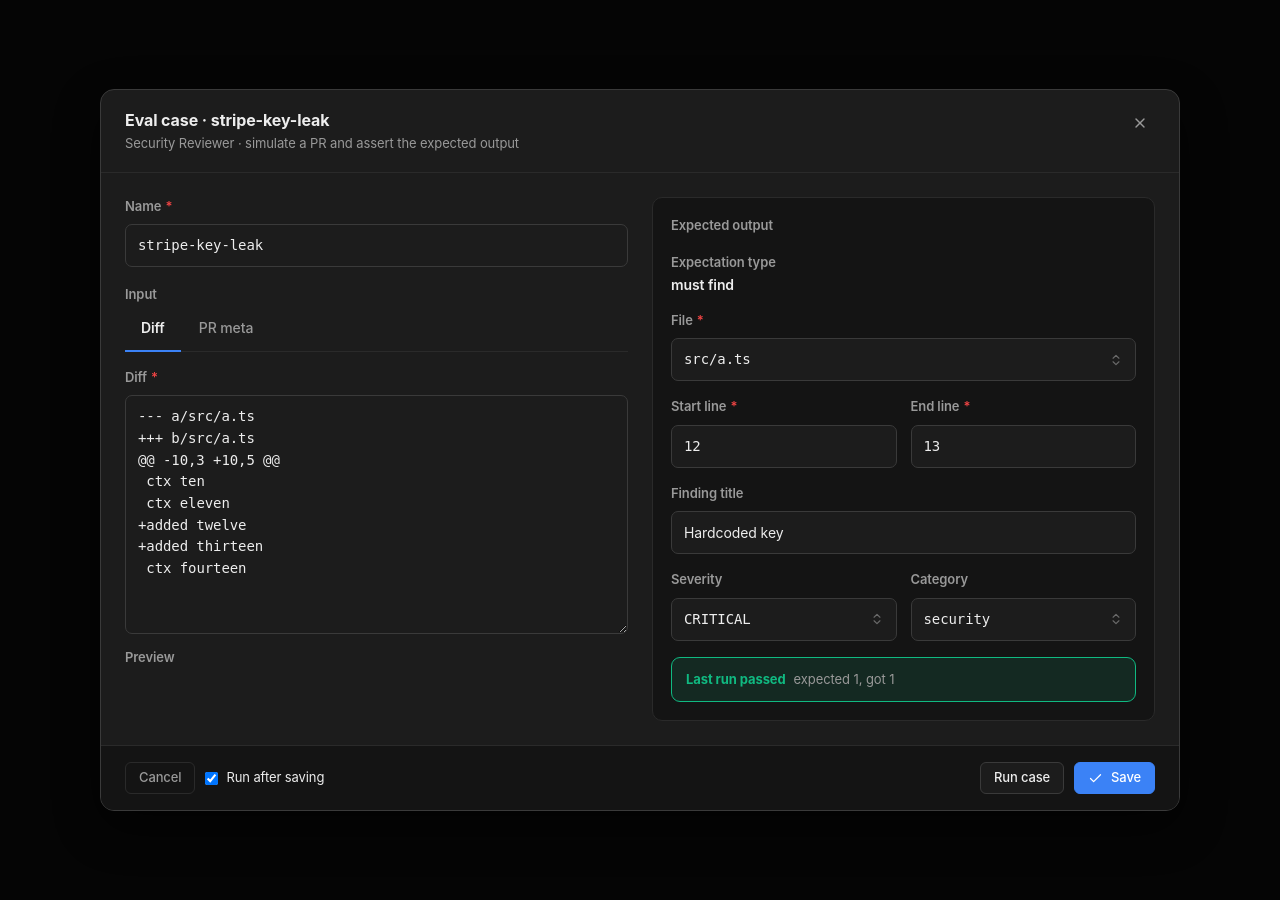
Test: CaseEditorDialog — Run case › renders an errored result and keeps the Last run banner
Click the button "Run case" at (1022,778), box x1=980 y1=762 x2=1064 y2=794
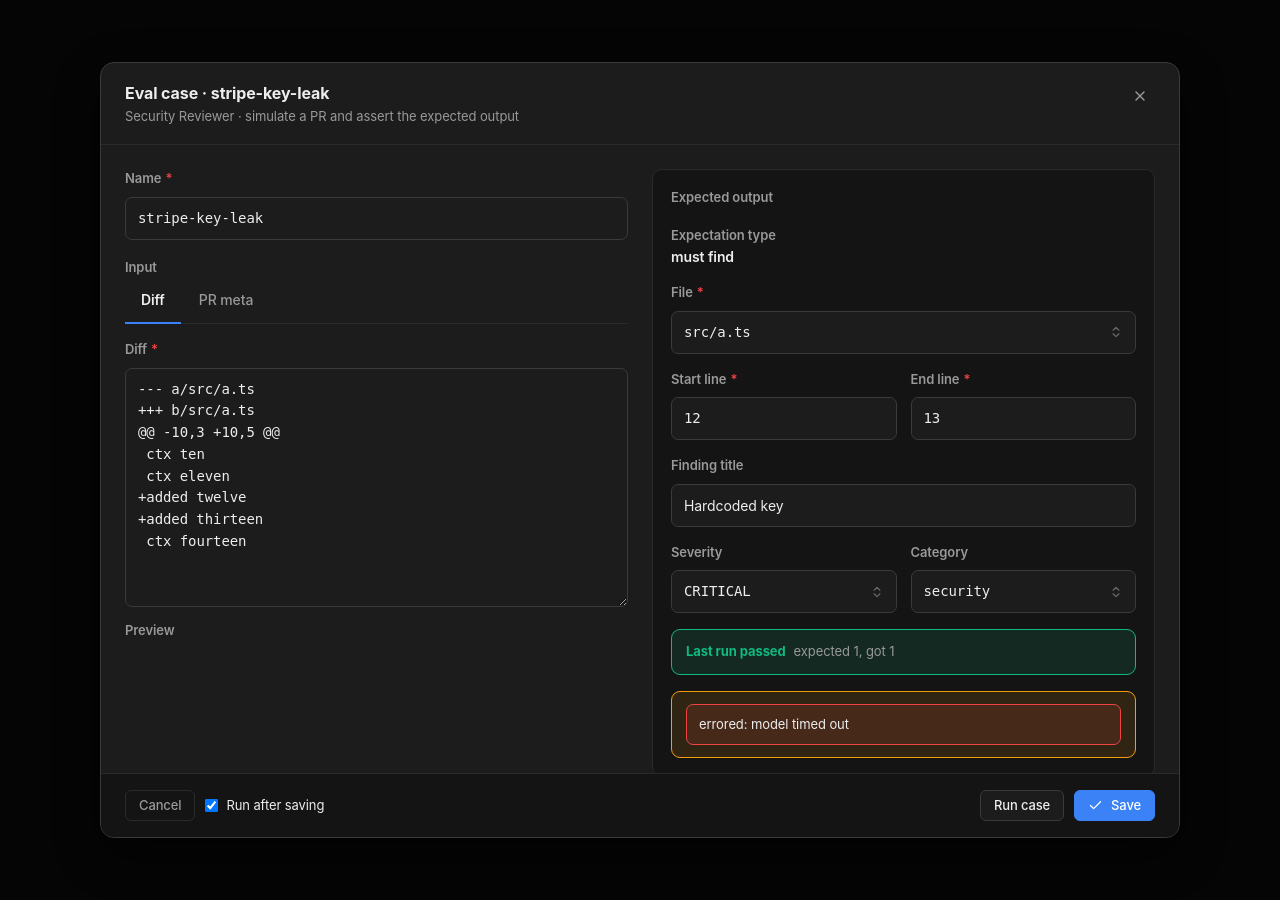
Expected: the text "Last run passed" is shown, x1=686 y1=642 x2=786 y2=662
Expected: the message "errored: model timed out" is shown, x1=686 y1=704 x2=1121 y2=745
